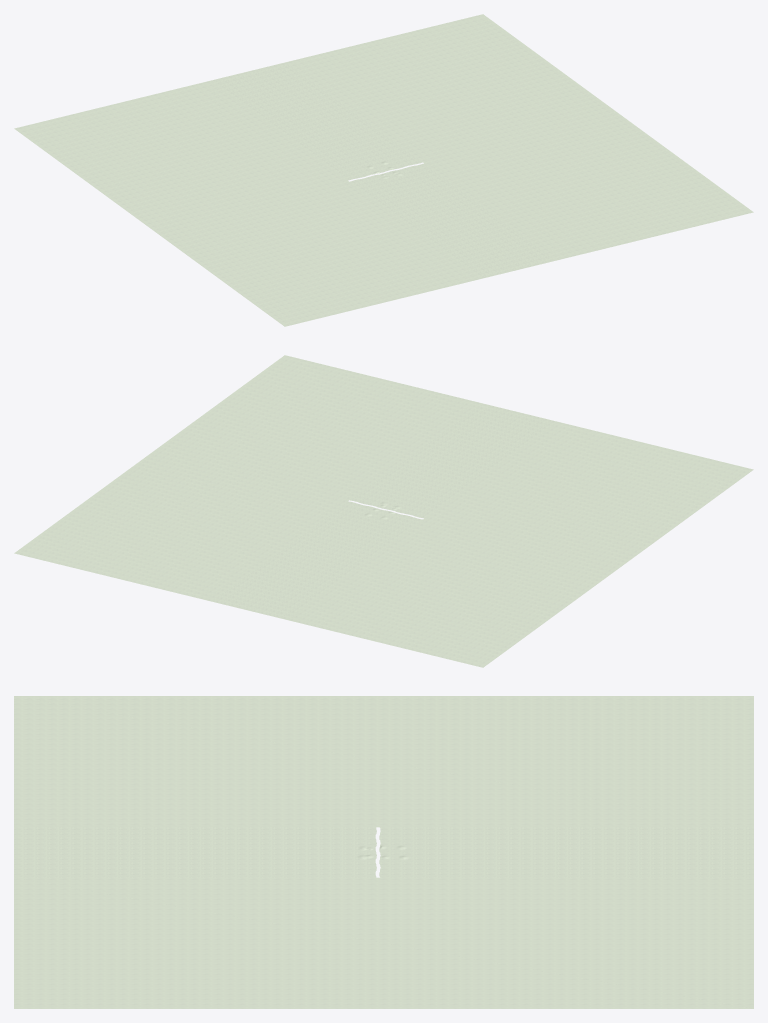
The model's file is rolling-meadow.glb.
The picture shows the model from 3 angles, top to bottom: view 1: azimuth 30°, elevation 25°; view 2: azimuth 150°, elevation 25°; view 3: azimuth 270°, elevation 25°; orthographic projection. The views are drawn at different scales.
Parts seen in each view (by area): view 1: Rolling meadow; view 2: Rolling meadow; view 3: Rolling meadow.
Part boxes in pixels (x1,y1,x2,y2): Rolling meadow: (14,14,753,326); Rolling meadow: (14,355,753,667); Rolling meadow: (14,696,753,1008).
Size of the model in its own units: 1000 by 0.7488 by 1000.
1 material, 1 textured.
